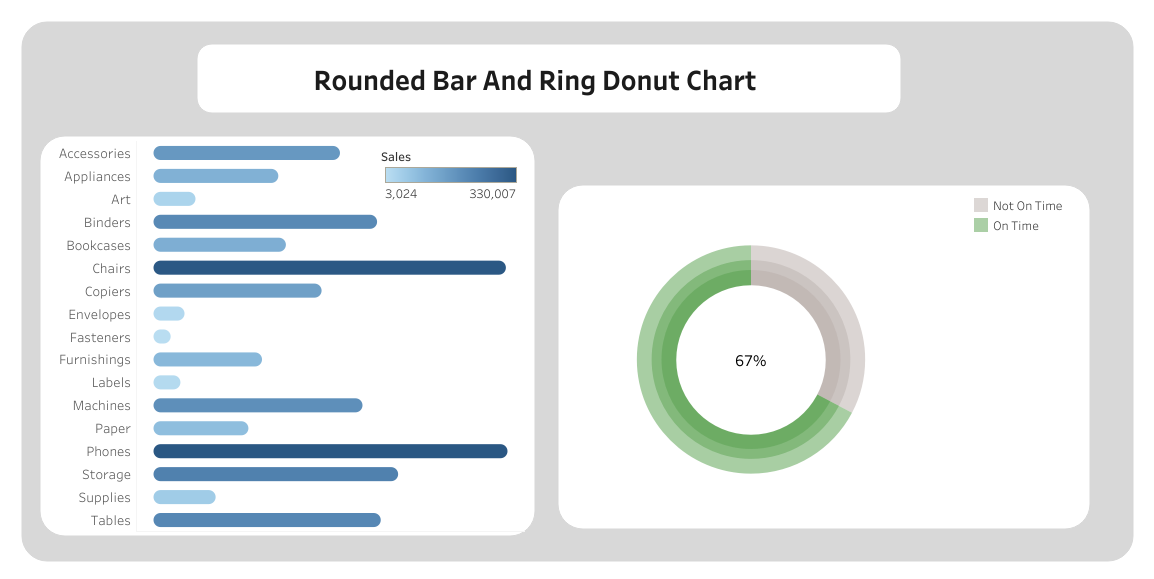

What the dashboard file says about the page in this screenshot:
{"tool":"tableau","page":{"name":"Dashboard 1","canvas":[1155,580],"ordinal":0},"visuals":[{"type":"worksheet","title":"Box","mark":"Automatic","box":[0,0,1155,580]},{"type":"image","box":[238,39,108,66]},{"type":"image","box":[769,47,76,62]},{"type":"text","box":[212,55,662,47]},{"type":"worksheet","title":"Rounded Bar Chart","mark":"Line","rows":["Sub-Category"],"box":[56,141,468,390]},{"type":"legend","title":"Rounded Bar Chart","param":"[federated.01atbfr0kok5kf15jq8yj1k36ssx].[sum:Sales:qk]","box":[381,143,140,76]},{"type":"legend","title":"On Time","param":"[federated.01atbfr0kok5kf15jq8yj1k36ssx].[:Measure Names]","box":[971,195,103,58]},{"type":"worksheet","title":"On Time","mark":"Automatic","box":[580,210,342,299]}]}

Visuals, with their boxes in screenshot pixels (x1, y1, x2, y2), scaled from the page's 1155x580 canvas onto the 1154x579 screenshot:
"Box" worksheet: <region>0, 0, 1153, 578</region>
image: <region>238, 39, 346, 105</region>
image: <region>768, 47, 844, 109</region>
text: <region>212, 55, 873, 102</region>
"Rounded Bar Chart" worksheet (Line marks): <region>56, 141, 524, 530</region>
"Rounded Bar Chart" legend: <region>381, 143, 521, 219</region>
"On Time" legend: <region>970, 195, 1073, 253</region>
"On Time" worksheet: <region>579, 210, 921, 508</region>
